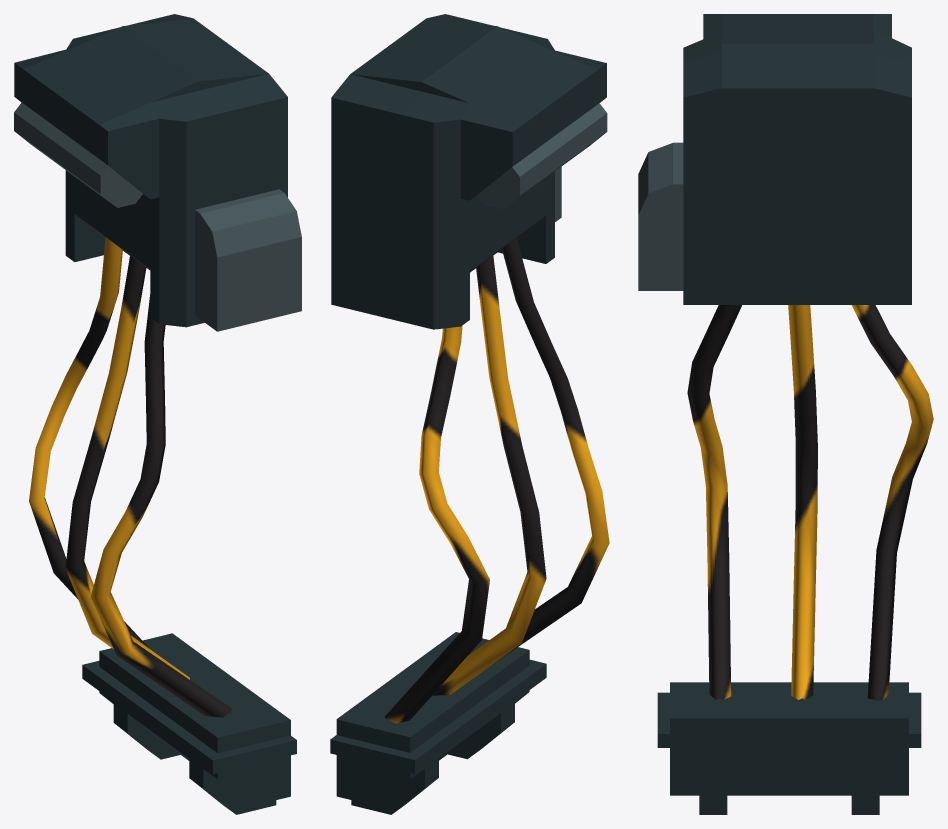
Rendered from SM_Misc_01.fbx.
The picture shows the model from 3 angles, left to right: view 1: azimuth 30°, elevation 25°; view 2: azimuth 150°, elevation 25°; view 3: azimuth 270°, elevation 25°; orthographic projection.
Visible parts, largest first — view 1: SM_Misc_01; view 2: SM_Misc_01; view 3: SM_Misc_01.
Boxes of the visible parts, x1,y1,x2,y2 form: SM_Misc_01: (14,14,301,814); SM_Misc_01: (330,14,609,814); SM_Misc_01: (638,14,933,814).
Bounding box in the file's own units: 96.76 × 376 × 136.
Materials: 1 (1 with a texture image).
